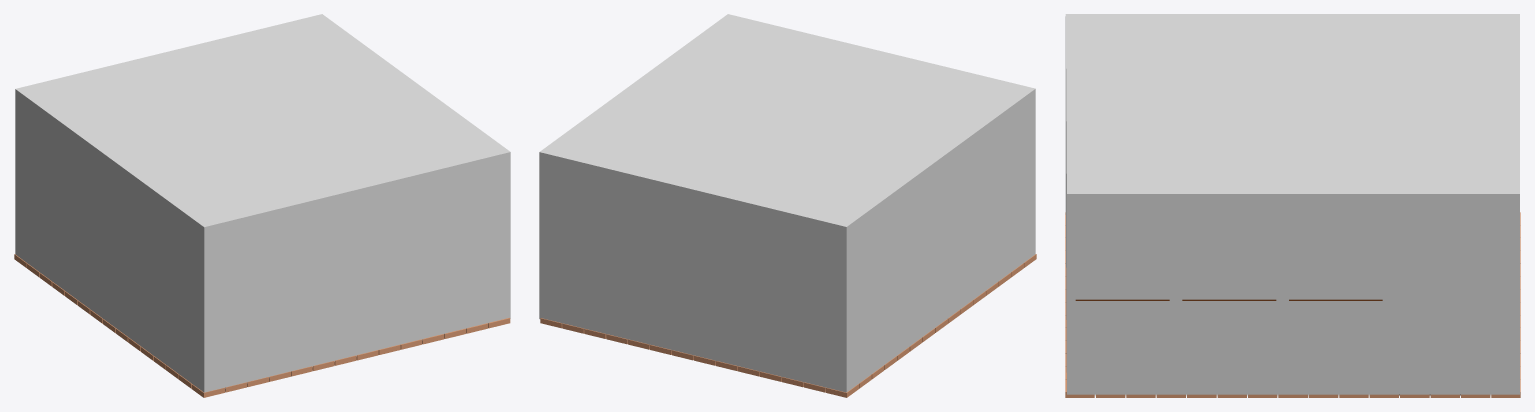
The model's file is classroom.glb.
The picture shows the model from 3 angles, left to right: view 1: azimuth 30°, elevation 25°; view 2: azimuth 150°, elevation 25°; view 3: azimuth 270°, elevation 25°; orthographic projection. The views are drawn at different scales.
Visible parts, largest first — view 1: Walls, Floor; view 2: Walls, Floor; view 3: Walls, Floor, Cube.634.
Boxes of the visible parts, box(x1,y1,x2,y2) form: Walls: box(15, 14, 510, 392); Floor: box(14, 254, 510, 397); Walls: box(539, 14, 1035, 392); Floor: box(540, 254, 1036, 397); Walls: box(1065, 14, 1519, 394); Floor: box(1065, 212, 1520, 397); Cube.634: box(1075, 299, 1382, 300).
Size of the model in its own units: 10.14 by 5.37 by 10.82.
